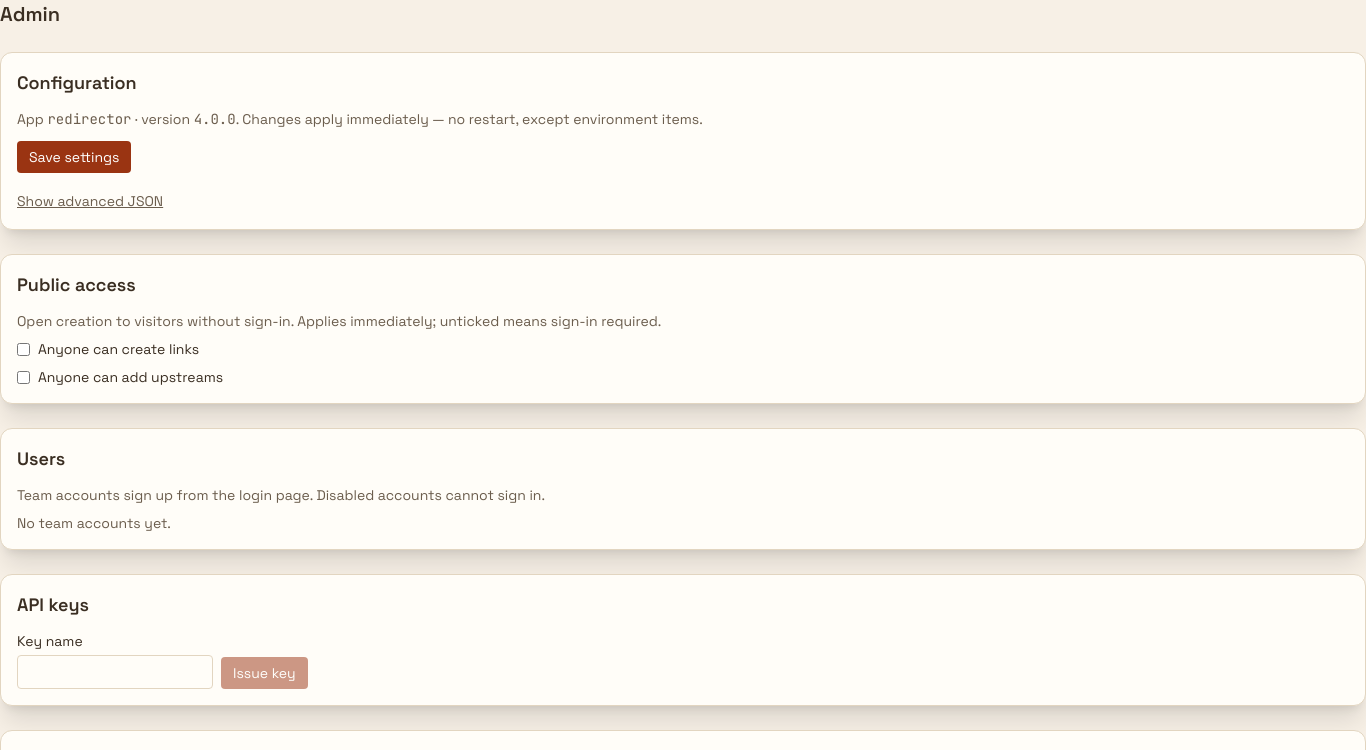
Test: AdminPage › issues a key and shows it once
Type "cron" into the field labelled "Key name" at (115,672), box [17,655,213,689]
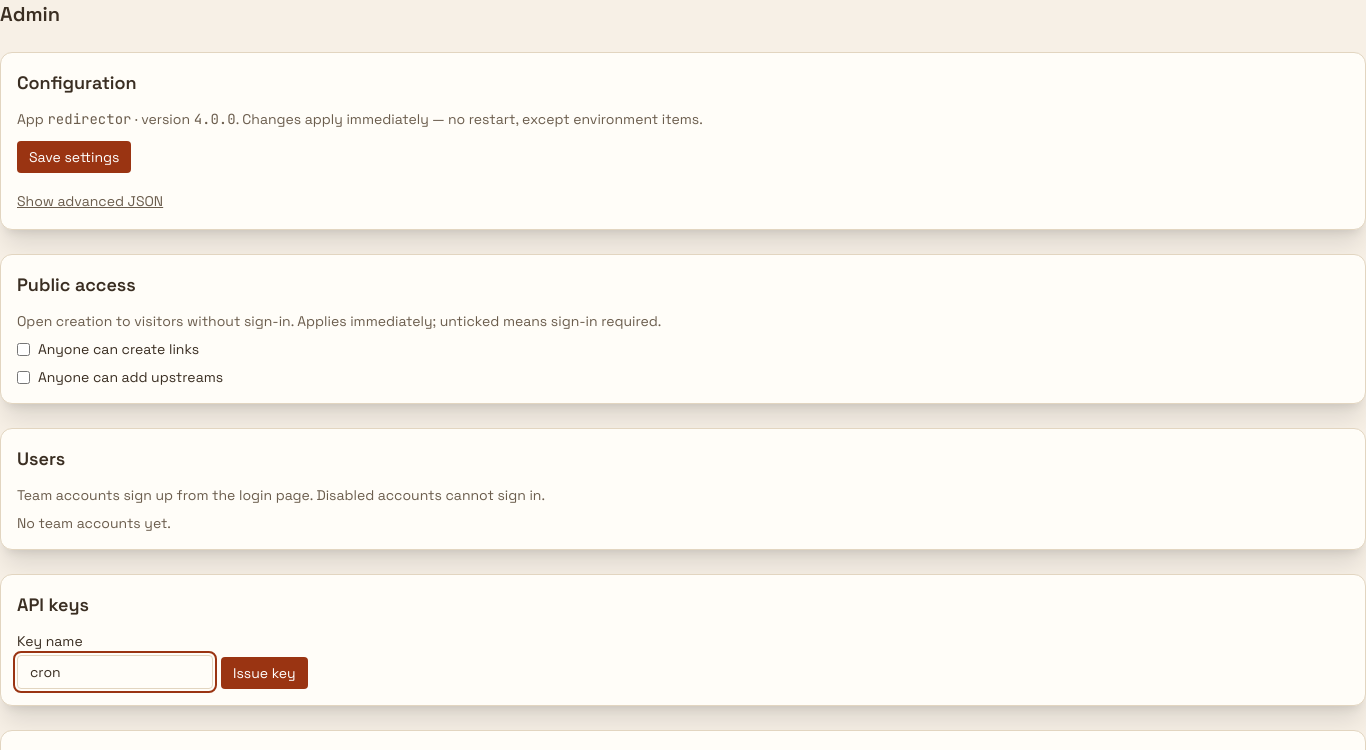
Click the button "Issue key" at (264,673), box [221,657,308,689]
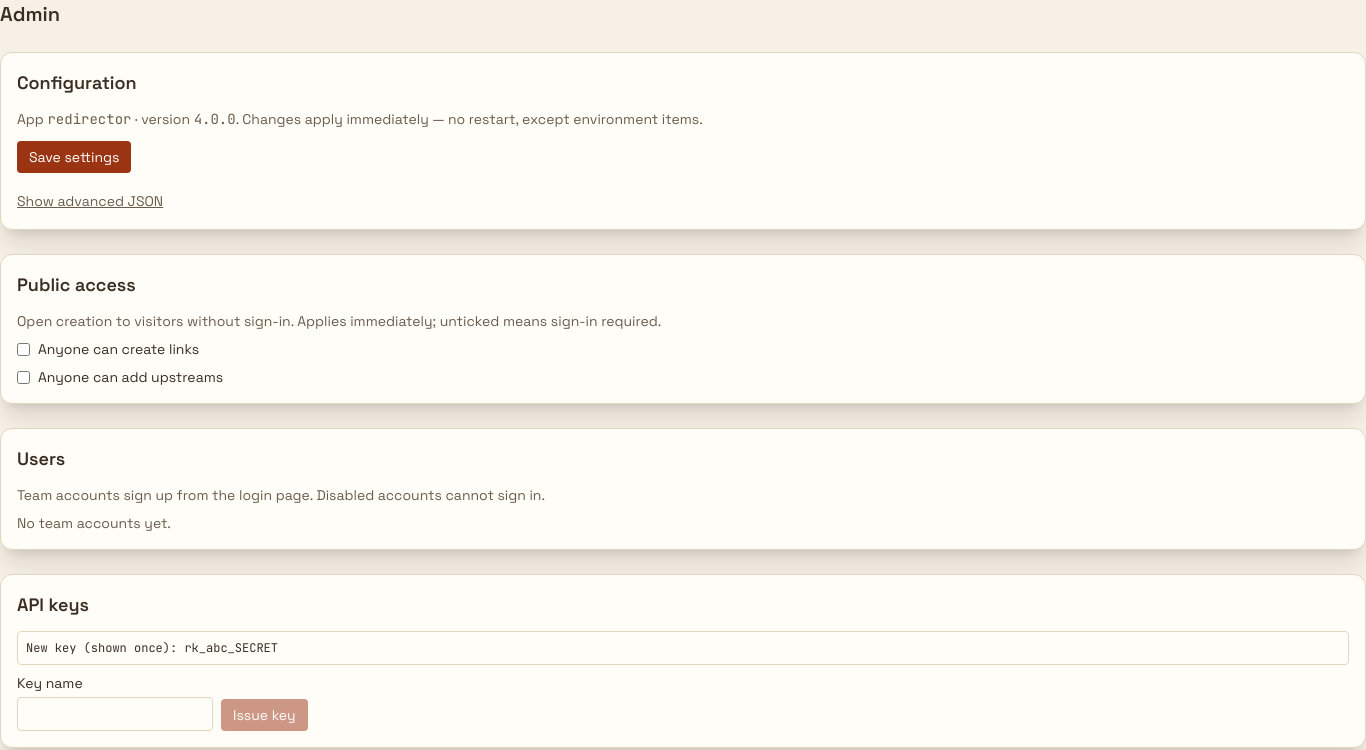
Expected: the text "New key (shown once): rk_abc_SECRET" is shown, [17,631,1349,665]
